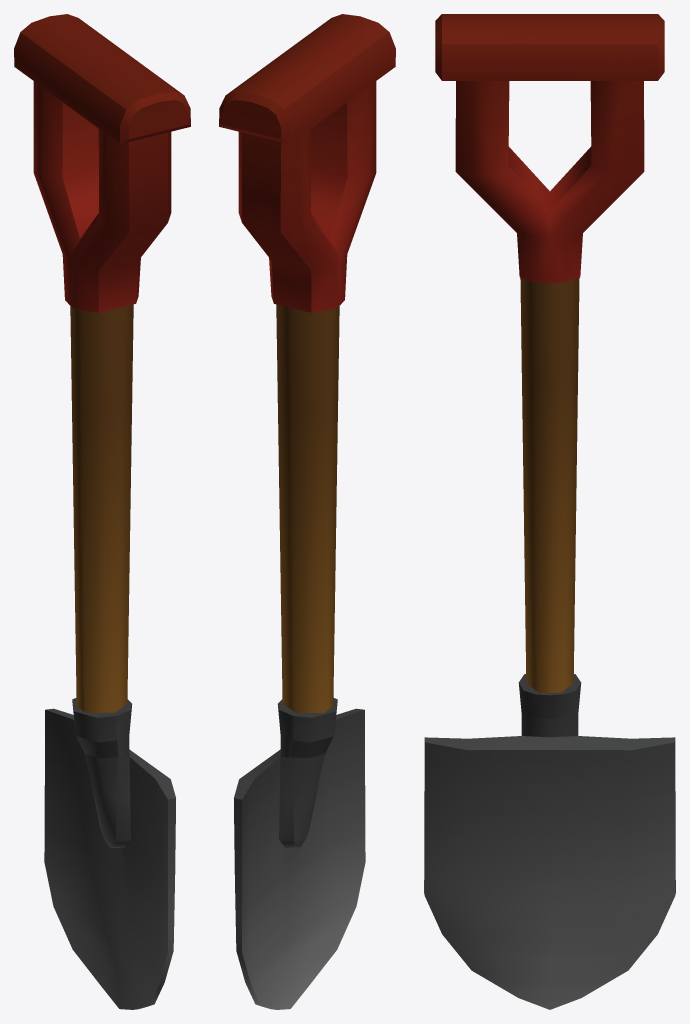
The model's file is Shovel_1.obj.
3 renders of one model, left to right at view 1: azimuth 30°, elevation 25°; view 2: azimuth 150°, elevation 25°; view 3: azimuth 270°, elevation 25°, orthographic.
Visible parts, largest first — view 1: Shovel_1; view 2: Shovel_1; view 3: Shovel_1.
Boxes of the visible parts, x1,y1,x2,y2 form: Shovel_1: (14,14,190,1009); Shovel_1: (219,14,395,1009); Shovel_1: (424,14,675,1009).
Size of the model in its own units: 0.0542 by 0.7009 by 0.1635.
